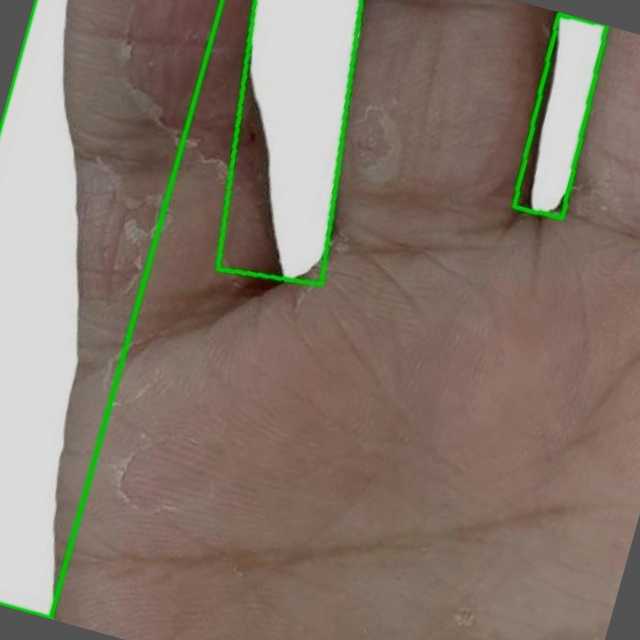Scabies: (0, 0, 222, 618), (218, 0, 363, 283), (514, 13, 608, 218)
